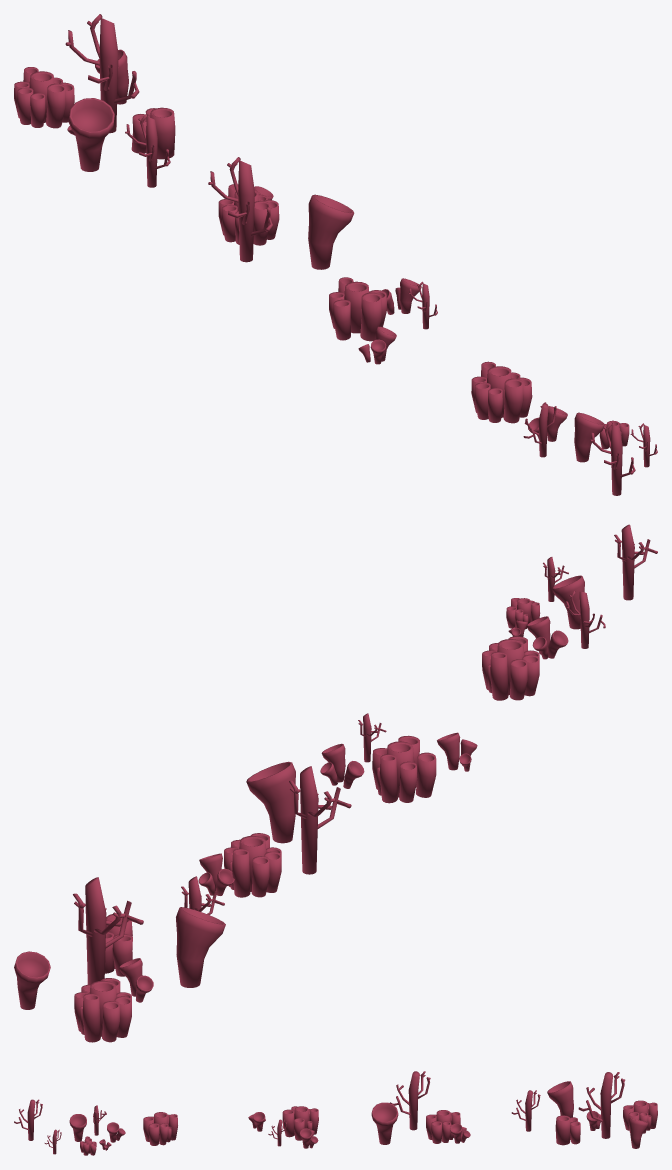
File: Reef.fbx
3 renders of one model, top to bottom at view 1: azimuth 30°, elevation 25°; view 2: azimuth 150°, elevation 25°; view 3: azimuth 270°, elevation 25°, orthographic. The views are drawn at different scales.
Parts seen in each view (by area): view 1: Reef 4, Reef 1, Reef 3.001, Reef 3; view 2: Reef 4, Reef 3.001, Reef 1, Reef 3; view 3: Reef 4, Reef 3.001, Reef 1, Reef 3.
Part boxes in pixels (<box>): Reef 4: <box>14,14,175,187</box>; Reef 1: <box>471,361,657,495</box>; Reef 3.001: <box>208,157,354,269</box>; Reef 3: <box>329,277,437,364</box>; Reef 4: <box>14,876,225,1042</box>; Reef 3.001: <box>198,761,351,897</box>; Reef 1: <box>482,524,657,700</box>; Reef 3: <box>320,713,477,803</box>; Reef 4: <box>511,1072,657,1148</box>; Reef 3.001: <box>371,1071,470,1144</box>; Reef 1: <box>14,1099,177,1155</box>; Reef 3: <box>248,1106,318,1148</box>.
Size of the model in its own units: 272 by 205 by 1807.
